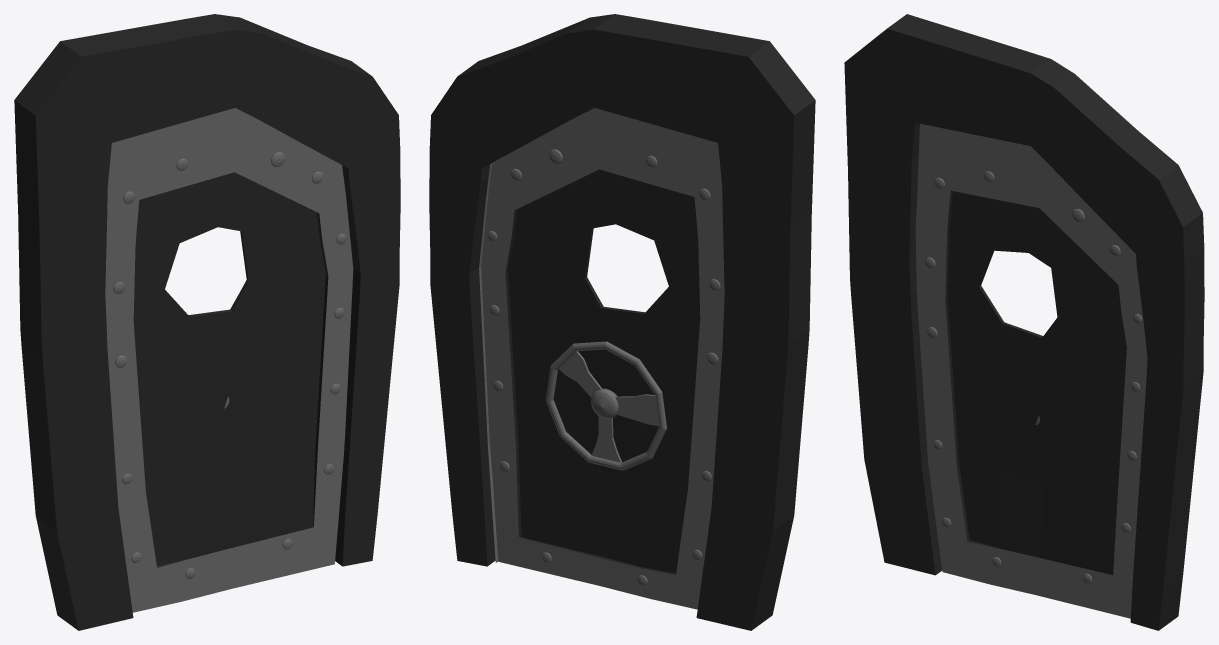
Rendered from neighbor_door.obj.
3 renders of one model, left to right at view 1: azimuth 30°, elevation 25°; view 2: azimuth 150°, elevation 25°; view 3: azimuth 330°, elevation 25°, orthographic. The views are drawn at different scales.
Visible parts, largest first — view 1: Door_door_Plane.002, Door_door_Plane.004; view 2: Door_door_Plane.004, Door_door_Plane.002, Door_door_Plane.001; view 3: Door_door_Plane.002, Door_door_Plane.004.
Boxes of the visible parts, <box> form: Door_door_Plane.002: <box>105,108,353,612</box>; Door_door_Plane.004: <box>14,14,400,630</box>; Door_door_Plane.004: <box>429,14,815,630</box>; Door_door_Plane.002: <box>481,108,724,609</box>; Door_door_Plane.001: <box>545,341,666,470</box>; Door_door_Plane.002: <box>915,123,1147,618</box>; Door_door_Plane.004: <box>844,14,1204,630</box>.
Size of the model in its own units: 2.47 by 3.72 by 0.2502.
